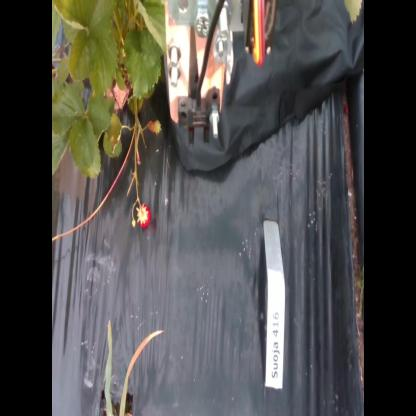ripe: (136, 203, 152, 232)
